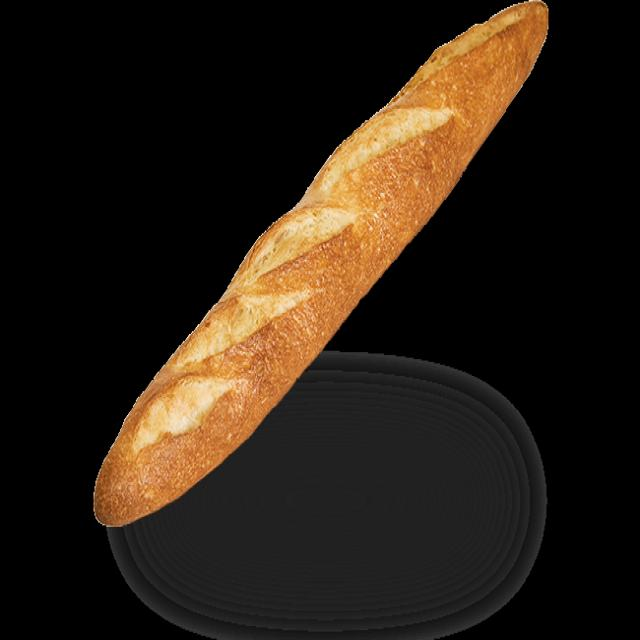Baguette: (94, 0, 546, 525)
